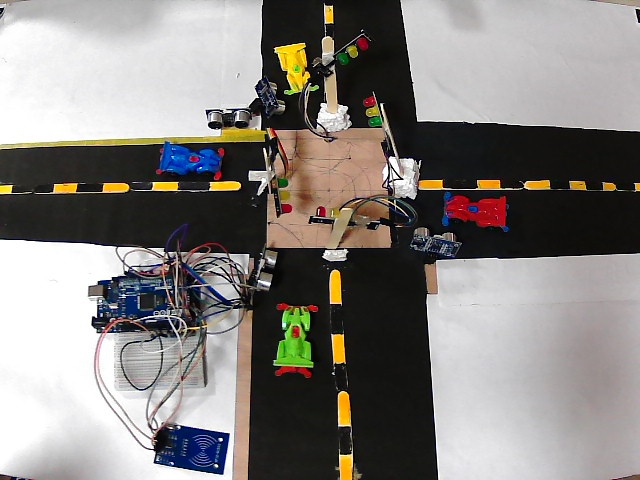black_strip: (327, 303, 348, 333), (14, 180, 50, 192), (239, 179, 267, 194), (329, 364, 347, 387), (444, 174, 478, 186), (335, 421, 350, 447), (78, 175, 100, 192), (184, 177, 202, 195), (127, 177, 145, 192), (501, 174, 516, 189), (550, 175, 566, 189), (327, 261, 343, 273), (588, 172, 599, 189), (618, 174, 630, 189)
car: (266, 300, 325, 381), (440, 190, 520, 237), (269, 43, 315, 87), (159, 145, 227, 171)
mixed_lane: (324, 261, 357, 477), (417, 176, 638, 193), (0, 183, 244, 195), (315, 2, 338, 33)
traffic_light: (327, 36, 371, 66), (270, 168, 295, 215), (362, 93, 386, 129), (311, 200, 362, 216)
uno_breadboard: (88, 264, 206, 336), (110, 326, 211, 392), (150, 423, 228, 471), (246, 243, 280, 294), (254, 75, 286, 119), (204, 108, 252, 129)
yellow_strip: (308, 0, 334, 27), (335, 390, 353, 426), (149, 177, 182, 194), (330, 333, 346, 366), (50, 180, 77, 197), (335, 450, 352, 477), (206, 179, 241, 191), (326, 271, 339, 303), (478, 174, 501, 191), (519, 176, 551, 188), (418, 177, 442, 191), (568, 175, 588, 189), (600, 174, 616, 189), (102, 178, 118, 192), (2, 180, 13, 194), (632, 177, 640, 191)
